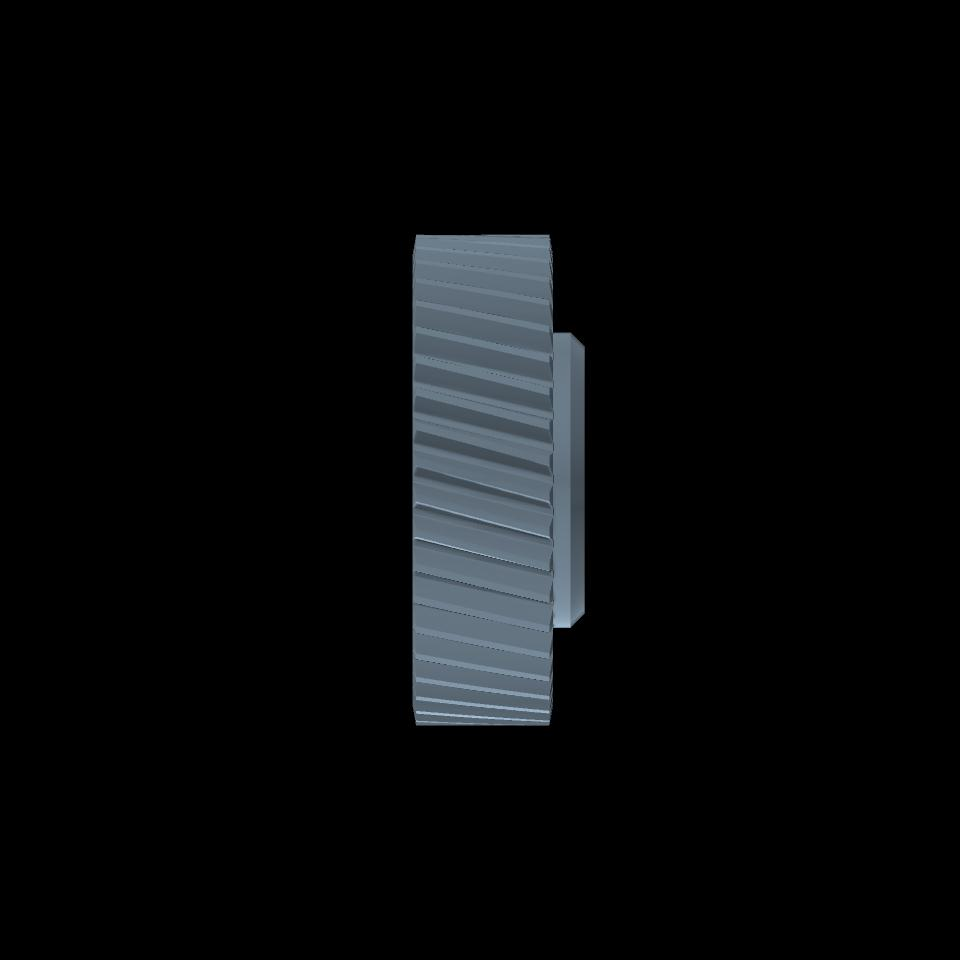Helical: (418, 236, 548, 723)
